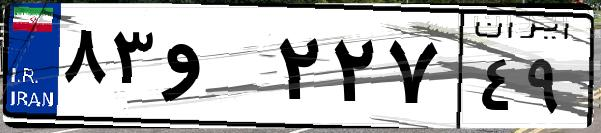2: (270, 28, 330, 110), (330, 28, 385, 110)
3: (110, 28, 158, 98)
4: (475, 38, 525, 113)
7: (385, 28, 445, 110)
8: (57, 26, 110, 100)
9: (525, 38, 570, 115)
و: (158, 20, 270, 120)
